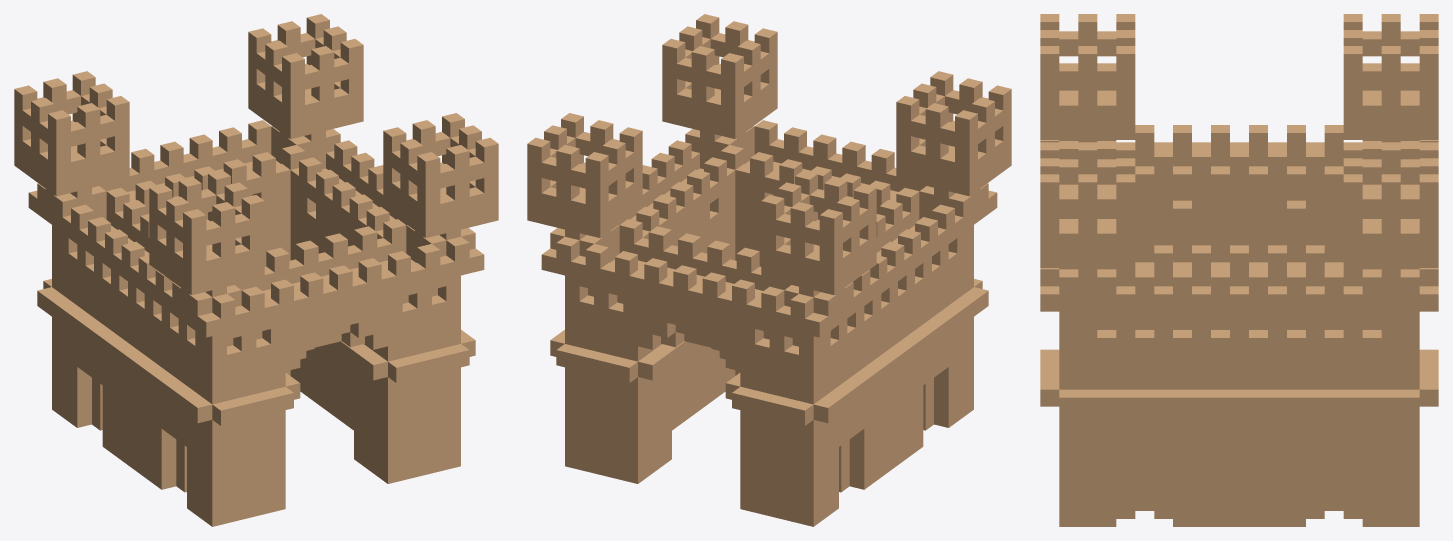
The model's file is castle.glb.
3 renders of one model, left to right at view 1: azimuth 30°, elevation 25°; view 2: azimuth 150°, elevation 25°; view 3: azimuth 270°, elevation 25°, orthographic. The views are drawn at different scales.
Parts seen in each view (by area): view 1: castle; view 2: castle; view 3: castle.
Boxes of the visible parts, x1,y1,x2,y2 form: castle: (14, 14, 498, 526); castle: (527, 14, 1011, 526); castle: (1040, 14, 1438, 526).
Bounding box in the file's own units: 2.1 × 2.1 × 2.1.
